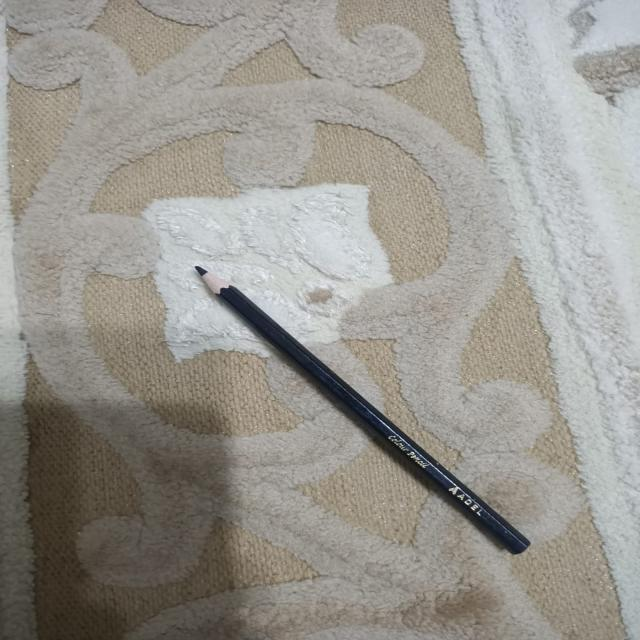pencil: (194, 266, 530, 554)
